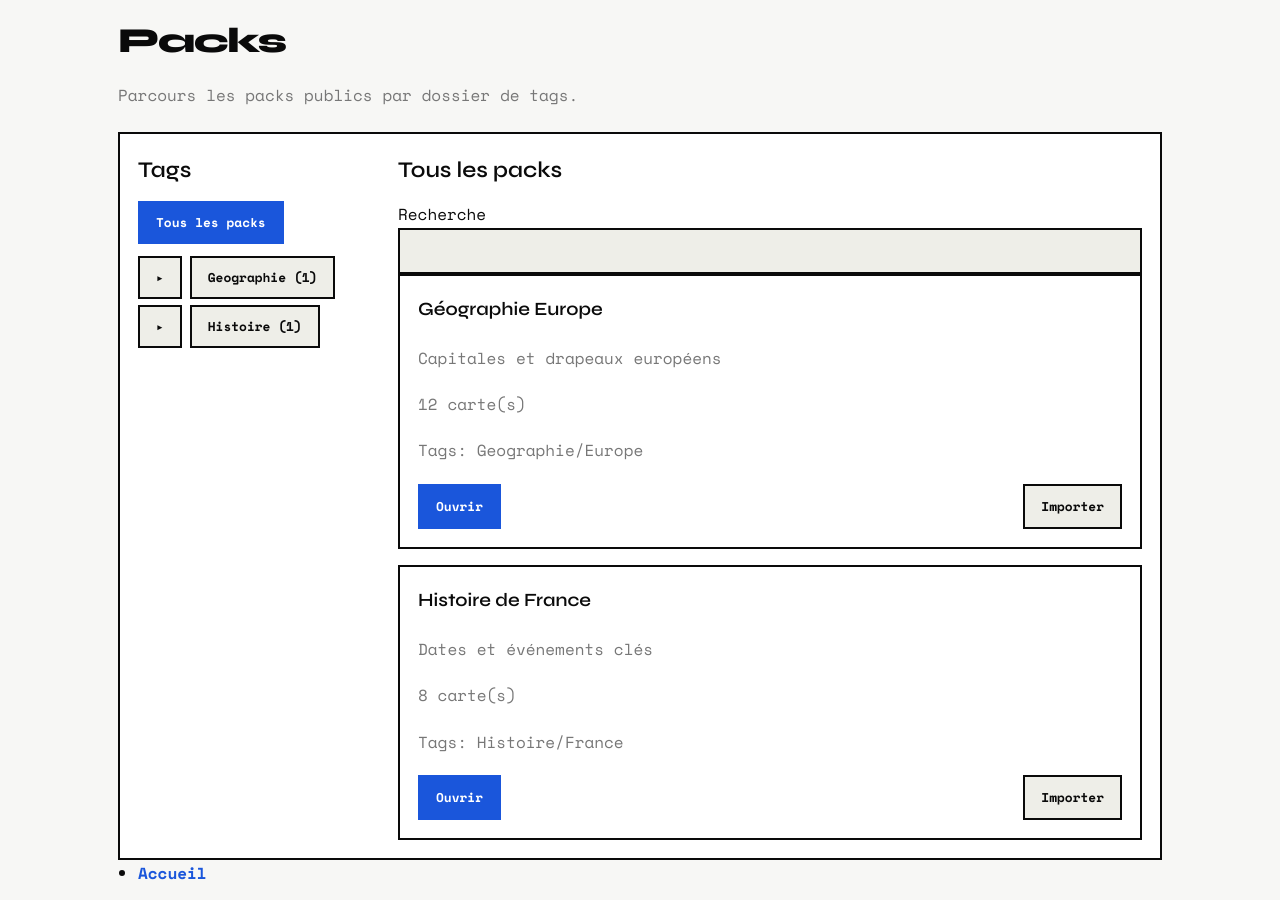
it: Packs search › filters packs by text query
Expected: the heading "Géographie Europe" is shown, left=418, top=298, right=603, bottom=320
Expected: the heading "Histoire de France" is shown, left=418, top=589, right=591, bottom=611
Step 1. Type "histoire" into the field labelled "Recherche" → [770, 251], box left=398, top=228, right=1142, bottom=274
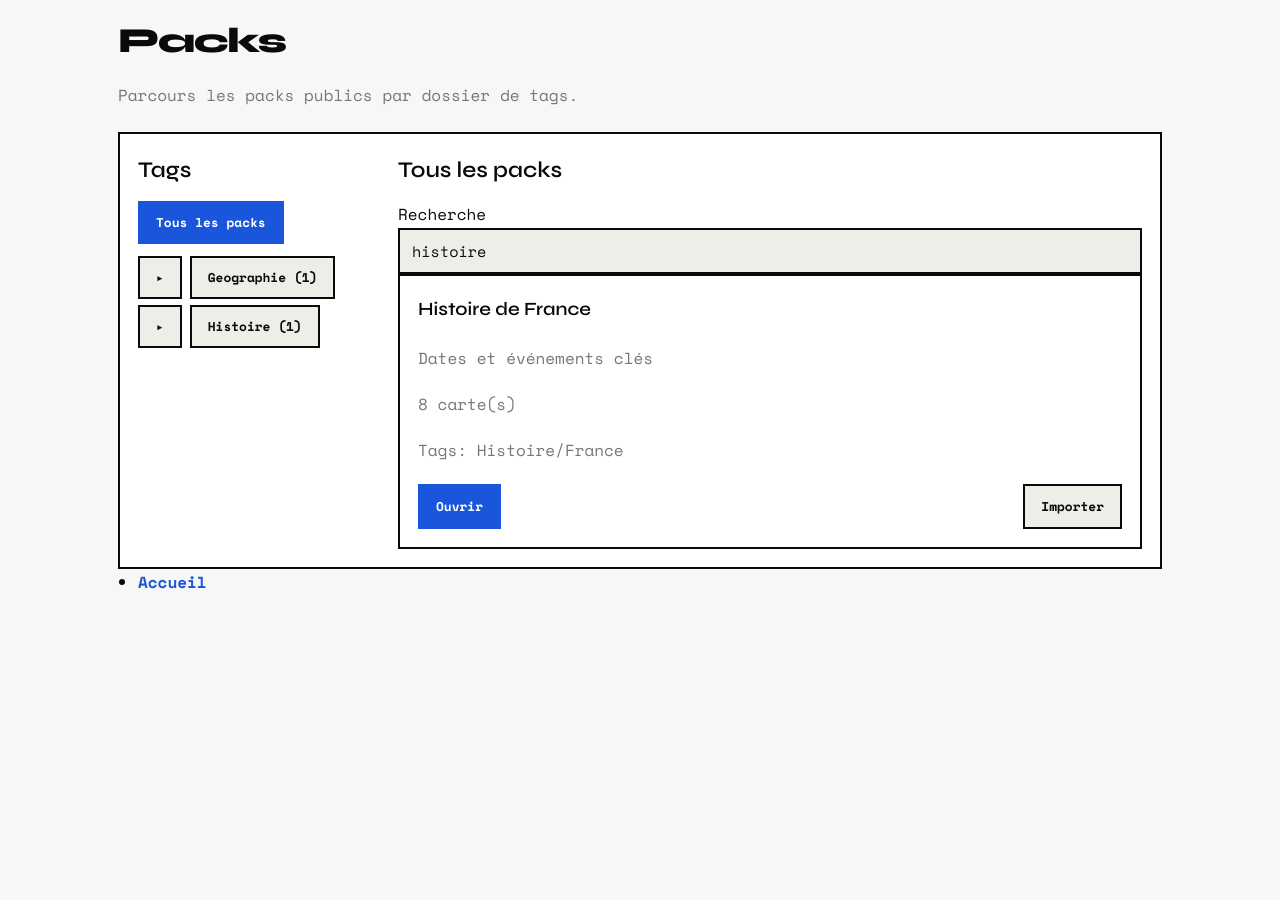
Expected: the heading "Histoire de France" is shown, left=418, top=298, right=591, bottom=320
Expected: the heading "Géographie Europe" is gone
Step 2. Replace the text in the field labelled "Recherche" with "drapeaux" → [770, 251], box left=398, top=228, right=1142, bottom=274
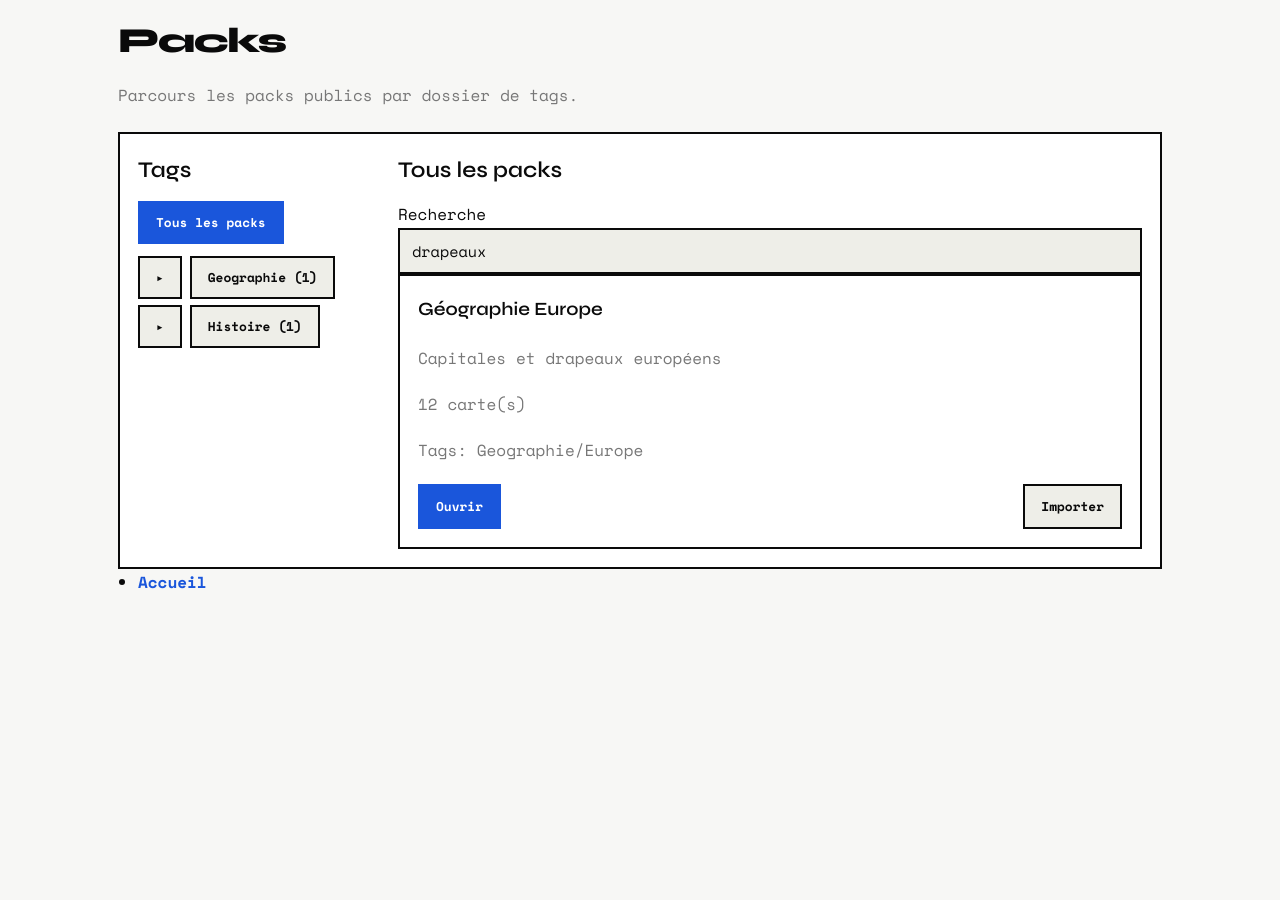
Expected: the heading "Géographie Europe" is shown, left=418, top=298, right=603, bottom=320
Expected: the heading "Histoire de France" is gone
